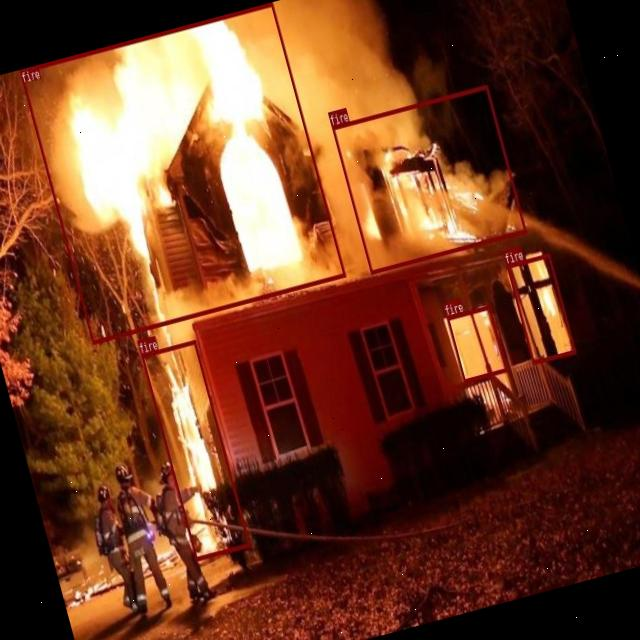fire: (18, 1, 346, 344), (331, 84, 526, 273), (140, 340, 250, 560), (506, 252, 575, 364), (446, 305, 506, 382)
